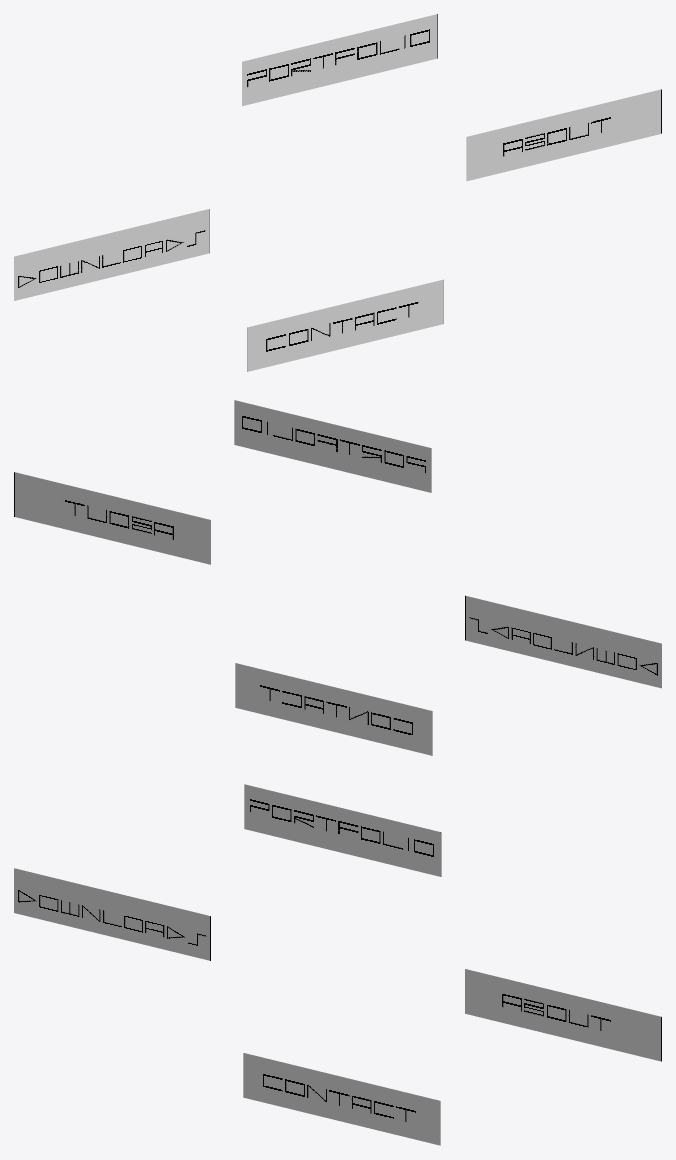
The picture shows the model from 3 angles, top to bottom: view 1: azimuth 30°, elevation 25°; view 2: azimuth 150°, elevation 25°; view 3: azimuth 330°, elevation 25°; orthographic projection.
Parts seen in each view (by area): view 1: Plane.004, Plane.003, Plane.001, Plane.002; view 2: Plane.001, Plane.004, Plane.002, Plane.003; view 3: Plane.001, Plane.004, Plane.003, Plane.002.
Boxes of the visible parts, x1,y1,x2,y2 form: Plane.004: (247, 280, 443, 371); Plane.003: (466, 89, 661, 181); Plane.001: (242, 14, 437, 106); Plane.002: (14, 209, 209, 300); Plane.001: (234, 400, 431, 492); Plane.004: (235, 663, 432, 755); Plane.002: (465, 595, 661, 688); Plane.003: (14, 472, 210, 564); Plane.001: (244, 784, 441, 876); Plane.004: (243, 1053, 440, 1145); Plane.003: (465, 969, 661, 1061); Plane.002: (14, 868, 210, 960).
Size of the model in its own units: 6.95 by 3.17 by 0.0582.
1 material, 1 textured.
